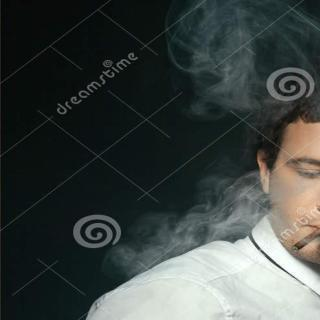smoke: (106, 176, 296, 283), (184, 0, 320, 109)
